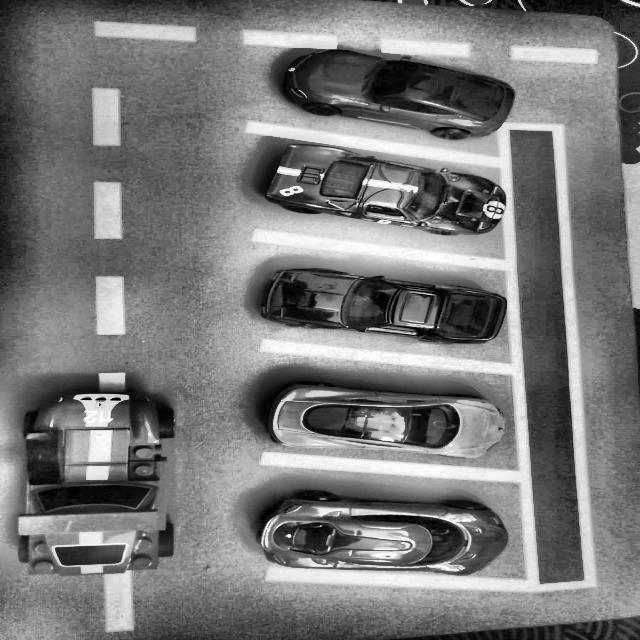car: (264, 143, 506, 236), (257, 489, 508, 576), (282, 48, 515, 140), (258, 267, 506, 344), (266, 382, 505, 458)
